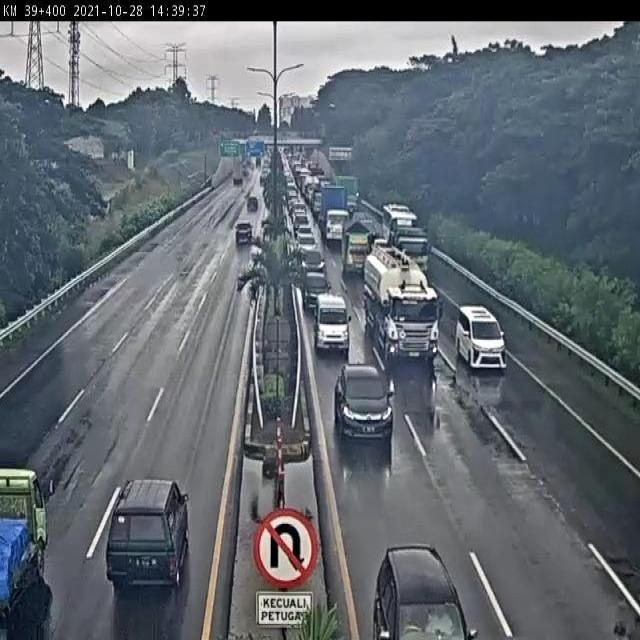big truck: (360, 248, 443, 363)
car: (372, 544, 480, 640), (103, 484, 189, 597), (334, 360, 396, 456), (462, 299, 514, 373), (318, 297, 352, 353), (304, 274, 330, 310), (301, 247, 325, 270), (235, 219, 254, 248)
small truck: (0, 471, 47, 612), (343, 223, 371, 272)
